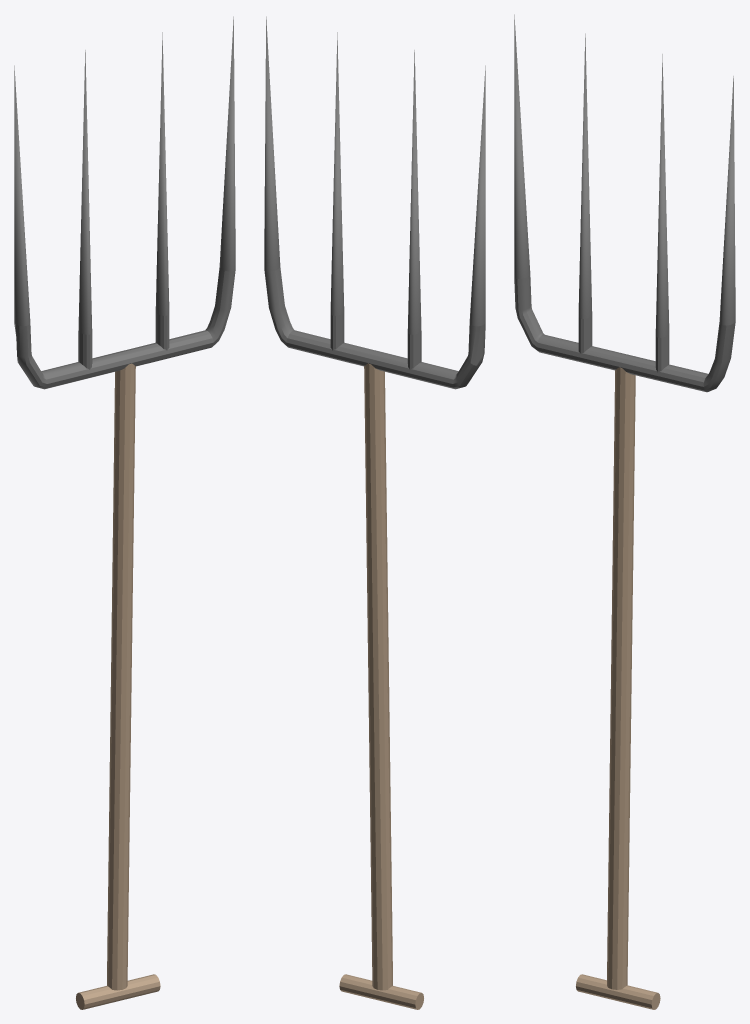
Rendered from Pitchfork.fbx.
The picture shows the model from 3 angles, left to right: view 1: azimuth 30°, elevation 25°; view 2: azimuth 150°, elevation 25°; view 3: azimuth 330°, elevation 25°; orthographic projection.
Visible parts, largest first — view 1: pCylinder3; view 2: pCylinder3; view 3: pCylinder3.
Part boxes in pixels (x1,y1,x2,y2): pCylinder3: (14, 16, 235, 1009); pCylinder3: (264, 16, 485, 1009); pCylinder3: (514, 14, 735, 1009).
Bounding box in the file's own units: 2.02 × 8.49 × 0.1655.
